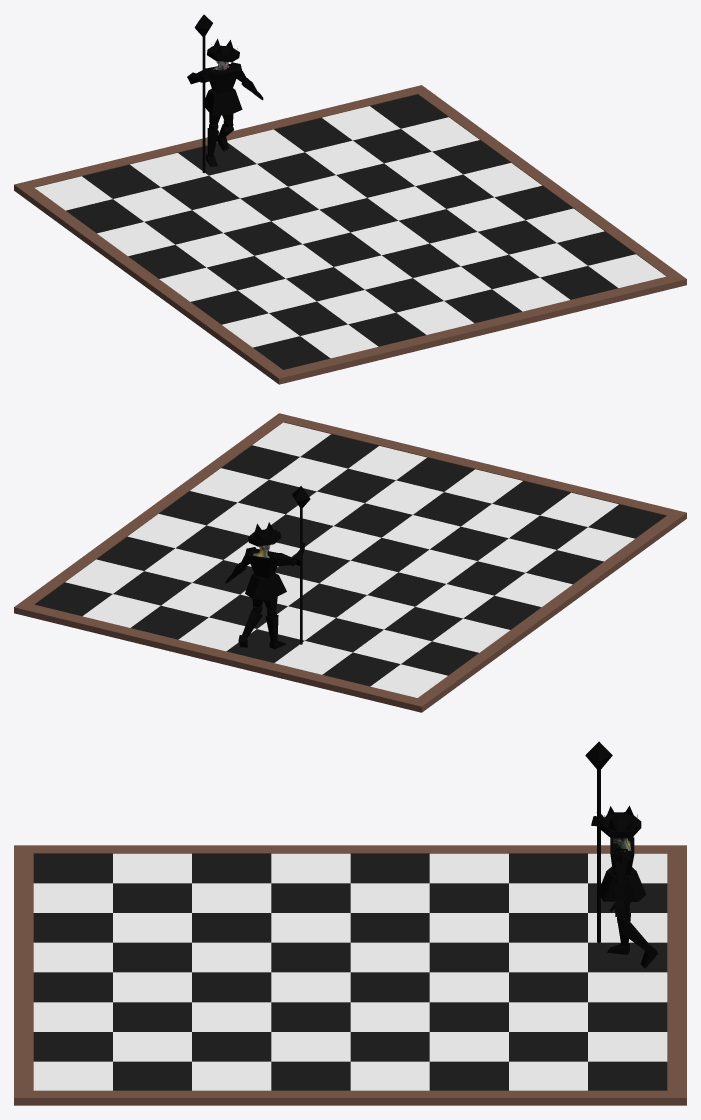
The model's file is mitrikas1.glb.
3 renders of one model, top to bottom at view 1: azimuth 30°, elevation 25°; view 2: azimuth 150°, elevation 25°; view 3: azimuth 270°, elevation 25°, orthographic. The views are drawn at different scales.
Visible parts, largest first — view 1: group878460196, group1325720107, Statue1, group731066650, group1235043960, group1148246740, group326102516, group332330213, group503694705, group636937857, group661305979, group872355897 (+57 smaller); view 2: group731066650, group1325720107, Statue1, group878460196, group1235043960, group7783894, group1447184045, group1461628158, group1805710264, group99279570, group332330213, group577121870 (+57 smaller); view 3: group1235043960, group1325720107, Statue1, group878460196, group731066650, group33993732, group1790432942, group2140935133, group523605633, group1361117225, group1461628158, group1990307613 (+57 smaller).
Boxes of the visible parts, left/top/right/bottom form: group878460196: left=284, top=273, right=686, bottom=381; group1325720107: left=21, top=187, right=290, bottom=384; Statue1: left=187, top=14, right=263, bottom=172; group731066650: left=14, top=88, right=417, bottom=195; group1235043960: left=412, top=85, right=678, bottom=276; group1148246740: left=286, top=267, right=364, bottom=301; group326102516: left=509, top=243, right=587, bottom=277; group332330213: left=192, top=198, right=270, bottom=232; group503694705: left=257, top=152, right=335, bottom=186; group636937857: left=478, top=220, right=556, bottom=254; group661305979: left=447, top=197, right=525, bottom=231; group872355897: left=336, top=163, right=414, bottom=197; group731066650: left=26, top=604, right=429, bottom=712; group1325720107: left=418, top=510, right=686, bottom=706; Statue1: left=225, top=486, right=310, bottom=649; group878460196: left=271, top=413, right=674, bottom=515; group1235043960: left=14, top=419, right=283, bottom=615; group7783894: left=319, top=560, right=397, bottom=594; group1447184045: left=221, top=445, right=299, bottom=479; group1461628158: left=334, top=503, right=412, bottom=537; group1805710264: left=478, top=538, right=556, bottom=572; group99279570: left=159, top=491, right=237, bottom=525; group332330213: left=336, top=595, right=414, bottom=629; group577121870: left=144, top=548, right=222, bottom=582; group1235043960: left=33, top=1090, right=686, bottom=1105; group1325720107: left=14, top=845, right=667, bottom=853; Statue1: left=585, top=741, right=657, bottom=968; group878460196: left=14, top=853, right=33, bottom=1105; group731066650: left=667, top=845, right=686, bottom=1090; group33993732: left=271, top=942, right=350, bottom=972; group1790432942: left=271, top=972, right=350, bottom=1002; group2140935133: left=271, top=853, right=350, bottom=883; group523605633: left=350, top=972, right=429, bottom=1002; group1361117225: left=588, top=972, right=667, bottom=1002; group1461628158: left=192, top=972, right=271, bottom=1002; group1990307613: left=429, top=972, right=508, bottom=1002.
Bounding box in the file's own units: 7.05 × 2.71 × 7.94.
5 materials, 1 textured.
